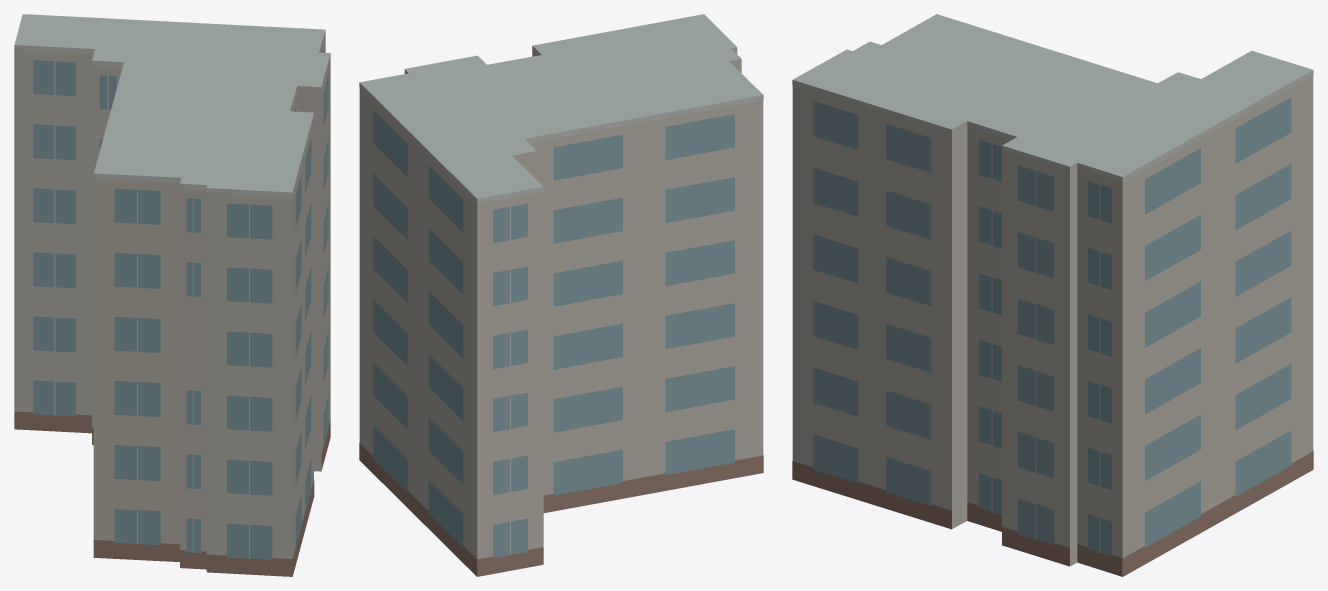
The model's file is survey-upis-32671694.glb.
3 views of the same model, side by side, from view 1: azimuth 30°, elevation 25°; view 2: azimuth 150°, elevation 25°; view 3: azimuth 270°, elevation 25° (orthographic). The views are drawn at different scales.
Parts seen in each view (by area): view 1: survey-upis-32671694.tmp; view 2: survey-upis-32671694.tmp; view 3: survey-upis-32671694.tmp.
Boxes of the visible parts, x1,y1,x2,y2 form: survey-upis-32671694.tmp: (14, 14, 330, 576); survey-upis-32671694.tmp: (359, 14, 763, 576); survey-upis-32671694.tmp: (792, 14, 1313, 576).
Size of the model in its own units: 16.02 by 18.3 by 21.62.
